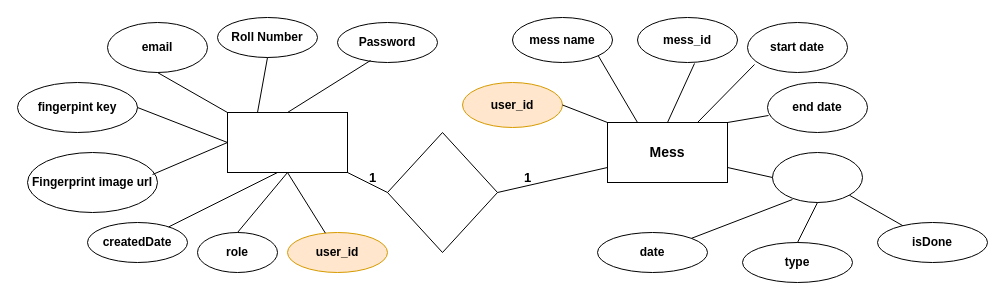
Image size: 1005x300. Some labels were removed from this diagram. Here are the shapes that lost their labels. From the top down, the centre of each, then its label:
At (x=287, y=142): "USER".
At (x=442, y=192): "user can choose mess".
At (x=817, y=177): "data".
